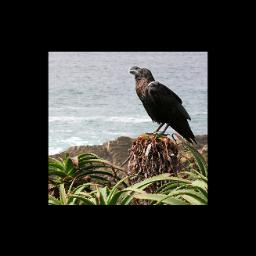Crow: (126, 65, 200, 146)
